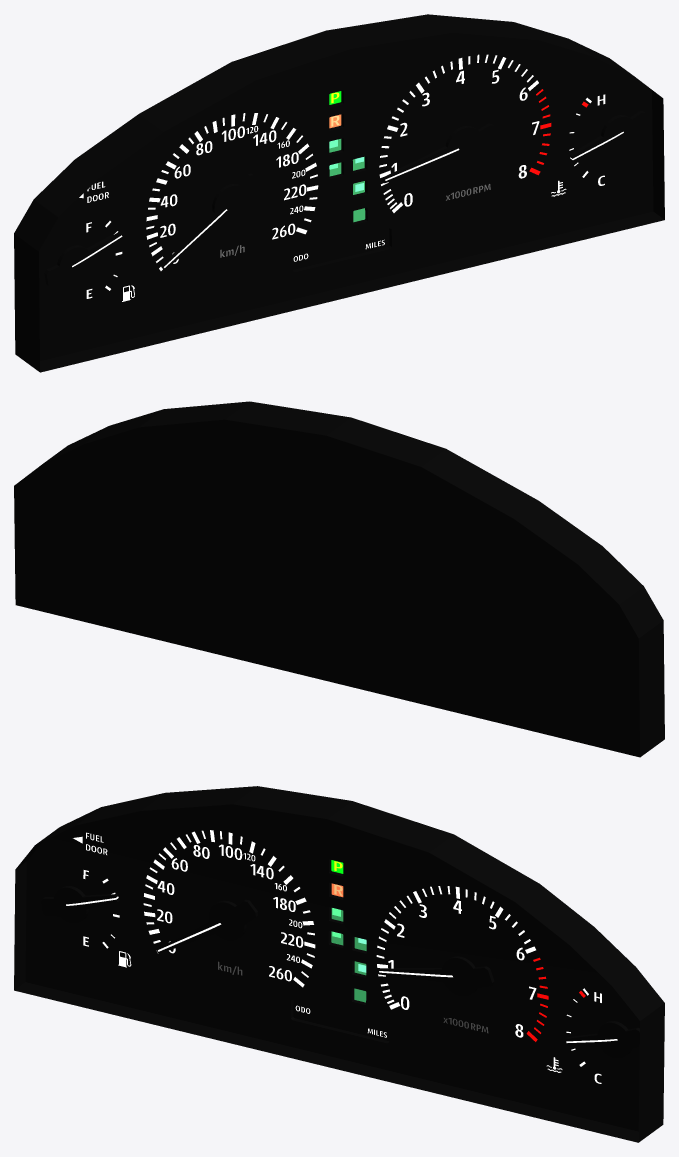
Rendered from tach.glb.
The picture shows the model from 3 angles, top to bottom: view 1: azimuth 30°, elevation 25°; view 2: azimuth 150°, elevation 25°; view 3: azimuth 330°, elevation 25°; orthographic projection.
Parts seen in each view (by area): view 1: object 3, Circle.009, Circle.010, Circle.011, Circle.012, object 4, object 5; view 2: object 3; view 3: object 3, Circle.010, Circle.009, Circle.011, Circle.012, object 4, object 5.
Part boxes in pixels (bbox=[...]): object 3: bbox=[14, 14, 664, 372]; Circle.009: bbox=[160, 173, 261, 270]; Circle.010: bbox=[382, 123, 498, 183]; Circle.011: bbox=[44, 231, 122, 287]; Circle.012: bbox=[569, 111, 650, 162]; object 4: bbox=[160, 126, 306, 263]; object 5: bbox=[391, 69, 539, 206]; object 3: bbox=[14, 401, 664, 757]; object 3: bbox=[14, 786, 664, 1142]; Circle.010: bbox=[378, 956, 494, 996]; Circle.009: bbox=[156, 899, 257, 953]; Circle.011: bbox=[40, 886, 119, 923]; Circle.012: bbox=[565, 1021, 639, 1058]; object 4: bbox=[157, 844, 303, 981]; object 5: bbox=[388, 900, 536, 1037].
Size of what is drawn, in the model's own units: 4.61 by 1.74 by 0.3386.
Materials: 10 (10 with a texture image).
